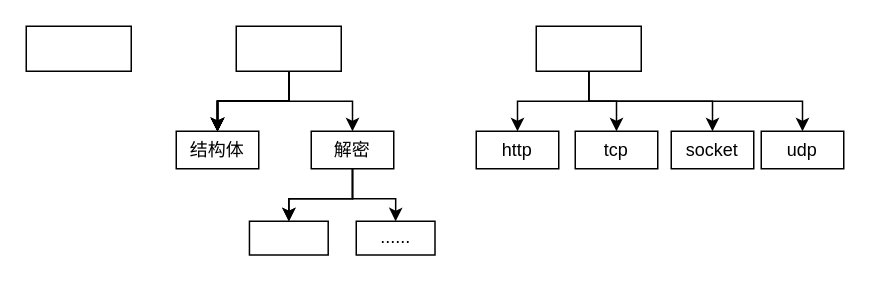
This 870x282 diagram has some shape labels left out. The shapes that lost their labels are listed below. From the top down, each one's centre as x and y in pixels, then its label:
At pixel 78 48: "用户".
At pixel 288 48: "消息".
At pixel 588 48: "协议".
At pixel 288 237: "json".
